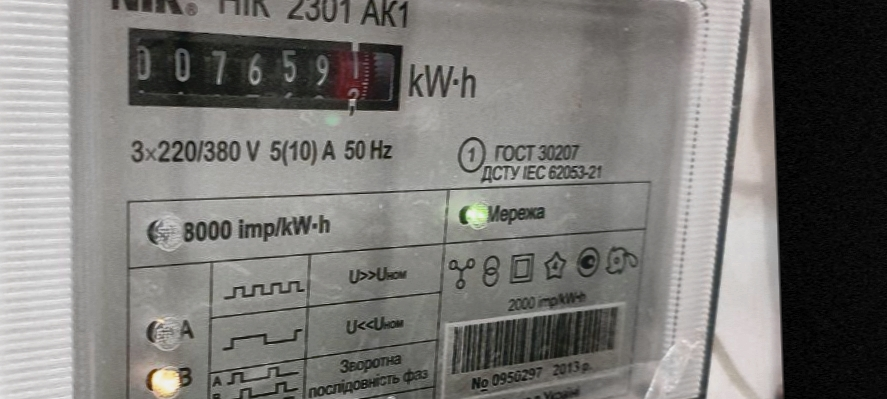0: (168, 44, 194, 86), (129, 42, 154, 84)
1: (346, 50, 364, 84)
5: (278, 47, 299, 86)
6: (243, 49, 265, 89)
7: (208, 48, 228, 88)
9: (312, 52, 330, 90)
screen: (116, 11, 412, 139)
